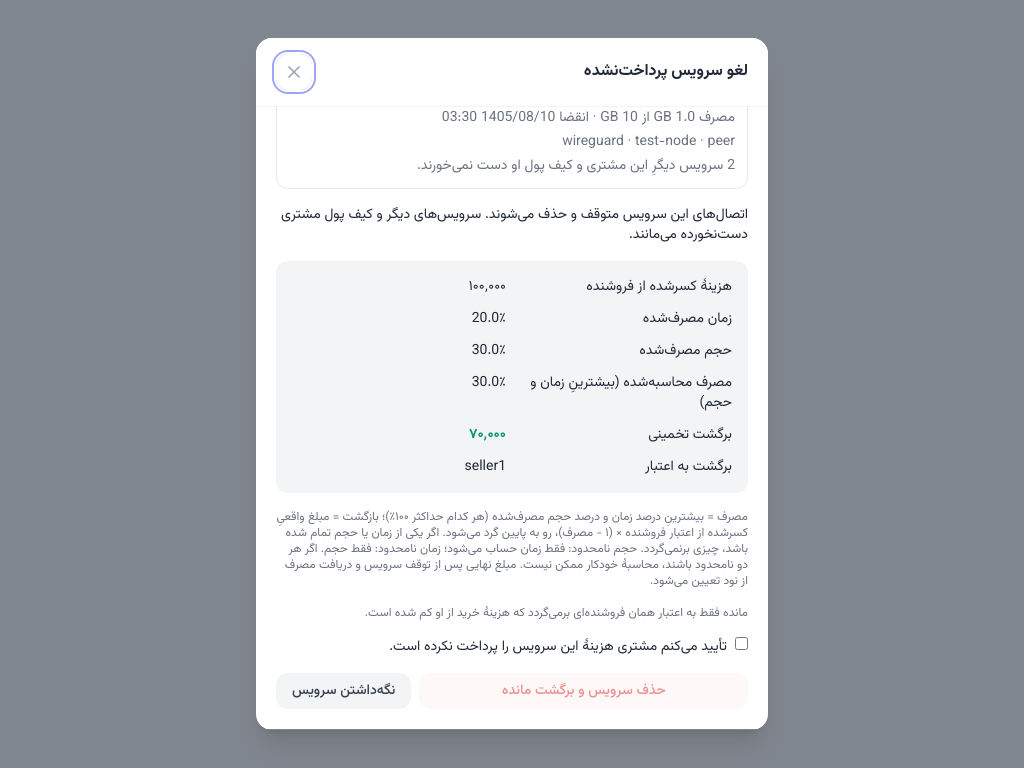
Scenario: unpaid cancellation dialog › a double click sends one request; success only on a completed state
(page scrolled)
Click the checkbox labelled "تأیید می‌کنم مشتری هزینهٔ این سرویس را پرداخت نکرده است." at (742, 644), box x1=735 y1=637 x2=748 y2=650
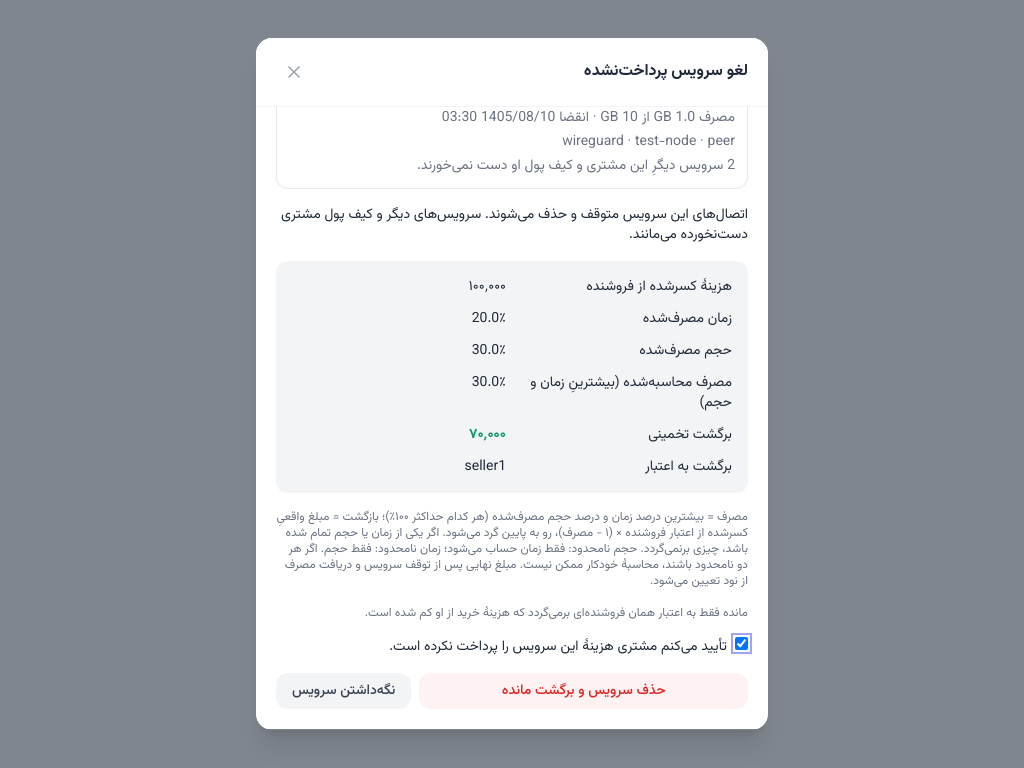
Double-click the button "حذف سرویس و برگشت مانده" at (584, 691), box x1=419 y1=673 x2=748 y2=709
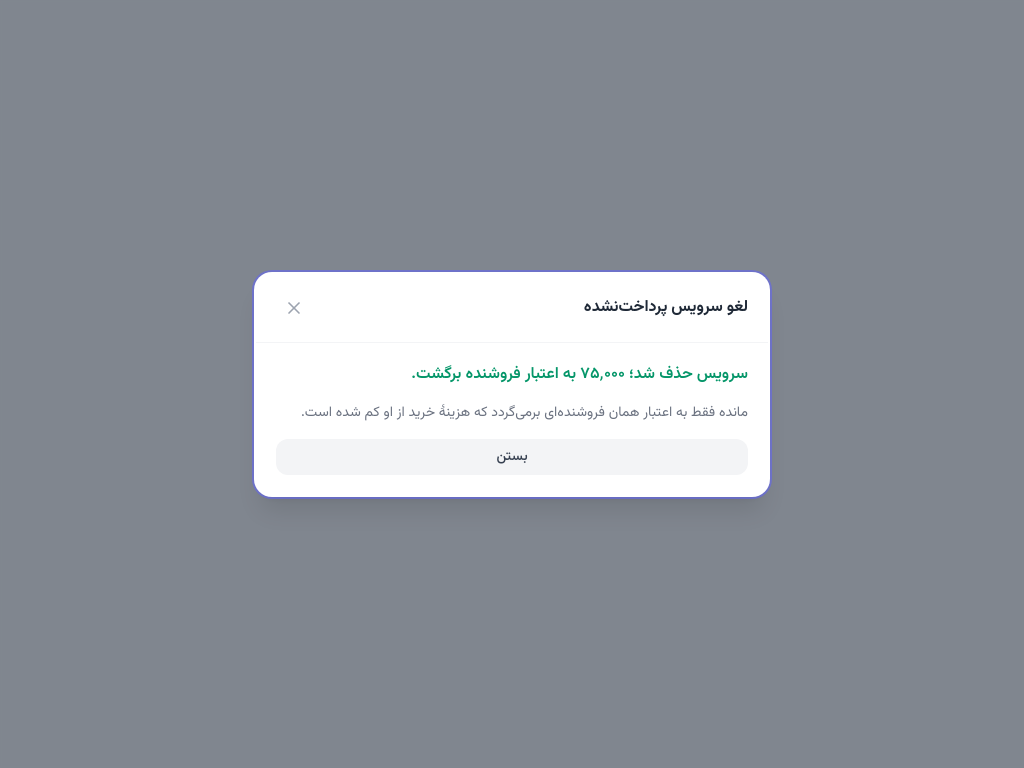
Check: the text "سرویس حذف شد؛ ۷۵٬۰۰۰ به اعتبار فروشنده برگشت." is shown, box x1=411 y1=362 x2=748 y2=386
